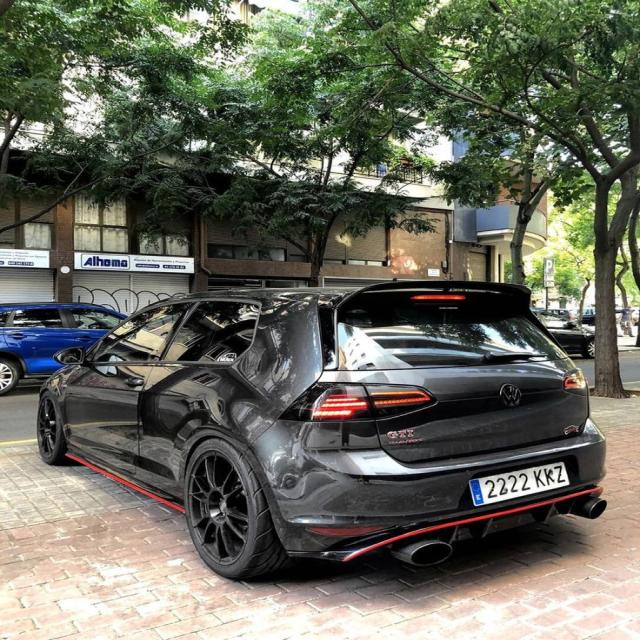Placas: (466, 459, 568, 509)
